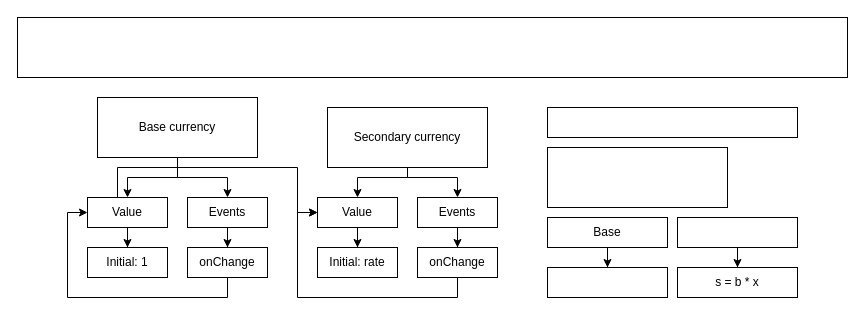
This 865x323 diagram has some shape labels left out. Each missing label, with the centre of its shape:
b = s / x: point 607,282
Data trans between currencies inputs: point 432,47
Formula: point 672,122
s : secondary currency value b : base currency value x : secondary rate: point 637,177
Secondary: point 737,232
